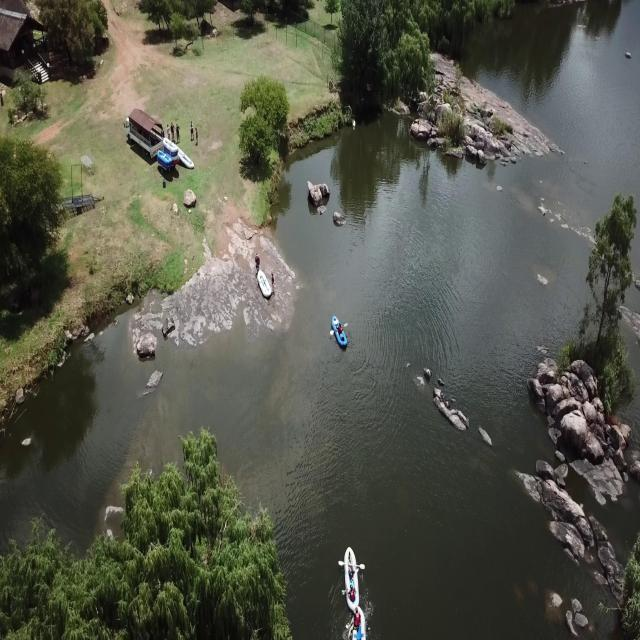kayak: (338, 542, 364, 617), (329, 314, 349, 349), (348, 605, 367, 640)
